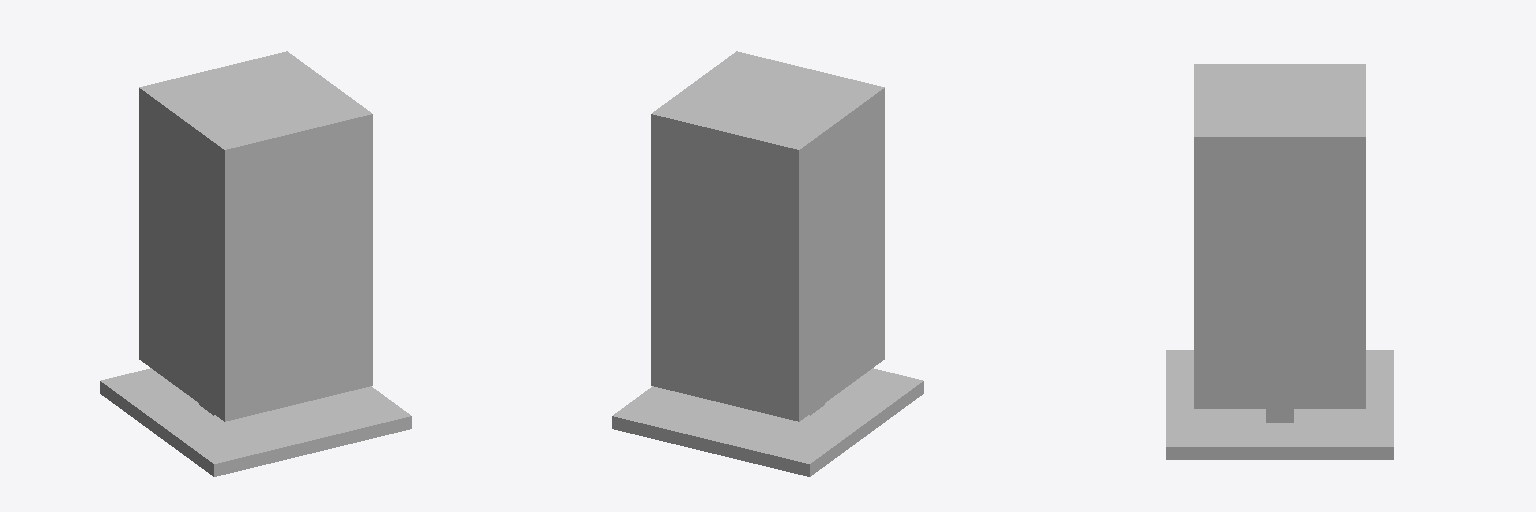
The model's file is non_poralised_cappsaitor.obj.
3 renders of one model, left to right at view 1: azimuth 30°, elevation 25°; view 2: azimuth 150°, elevation 25°; view 3: azimuth 270°, elevation 25°, orthographic.
Visible parts, largest first — view 1: cube, base; view 2: cube, base; view 3: cube, base.
Part boxes in pixels (x1,y1,x2,y2): cube: (139, 51, 372, 421); base: (100, 368, 411, 476); cube: (651, 51, 884, 421); base: (612, 368, 923, 476); cube: (1194, 64, 1365, 408); base: (1166, 350, 1393, 459).
Size of the model in its own units: 1 by 1.5 by 1.